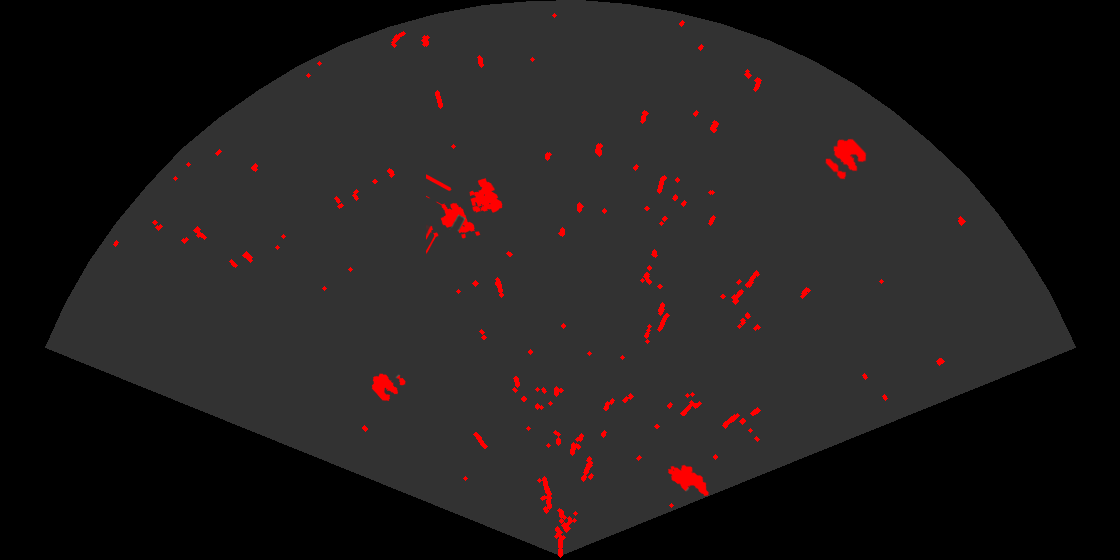AUV: (666, 463, 710, 498)
ball: (824, 137, 868, 181), (370, 372, 407, 403)
cage: (426, 173, 504, 255)
